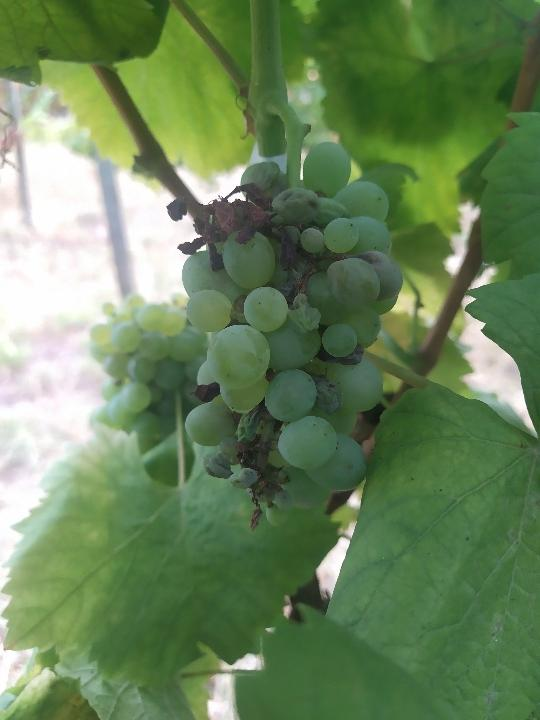grape: (166, 140, 404, 535)
